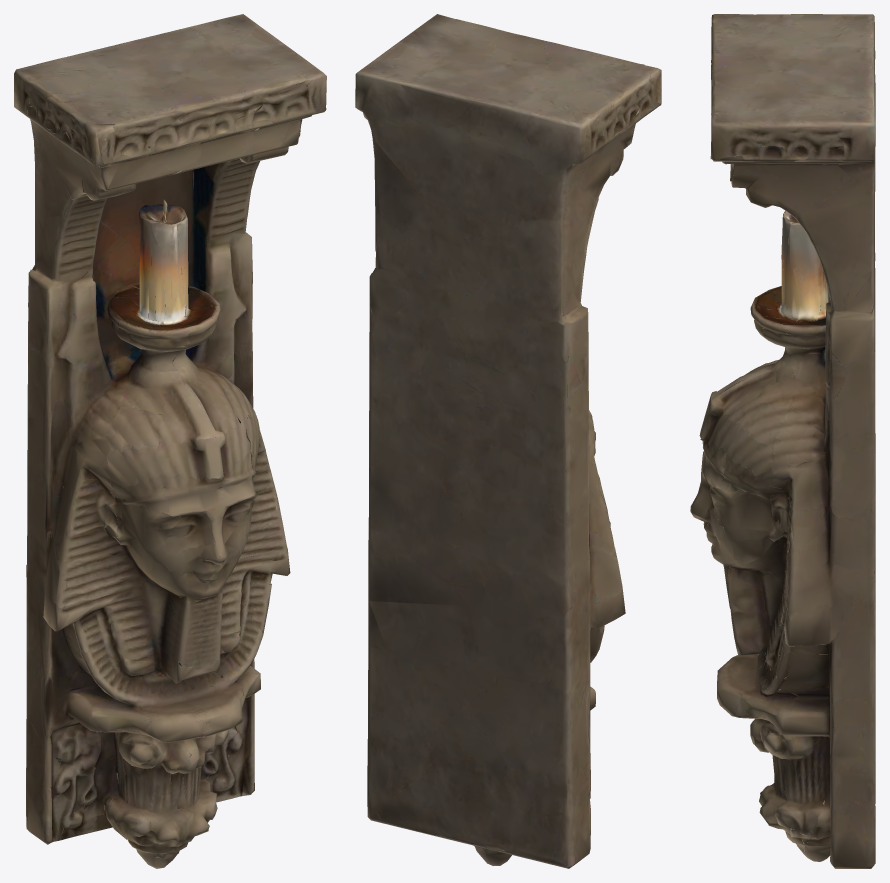
The model's file is wall_torch_dec.glb.
3 renders of one model, left to right at view 1: azimuth 30°, elevation 25°; view 2: azimuth 150°, elevation 25°; view 3: azimuth 270°, elevation 25°, orthographic. The views are drawn at different scales.
Visible parts, largest first — view 1: Mesh_0.018; view 2: Mesh_0.018; view 3: Mesh_0.018.
Part boxes in pixels (x1=…): Mesh_0.018: x1=14, y1=14, x2=326, y2=868; Mesh_0.018: x1=355, y1=14, x2=661, y2=868; Mesh_0.018: x1=690, y1=14, x2=875, y2=868.
Size of the model in its own units: 0.5859 by 1.91 by 0.4057.
1 material, 1 textured.
